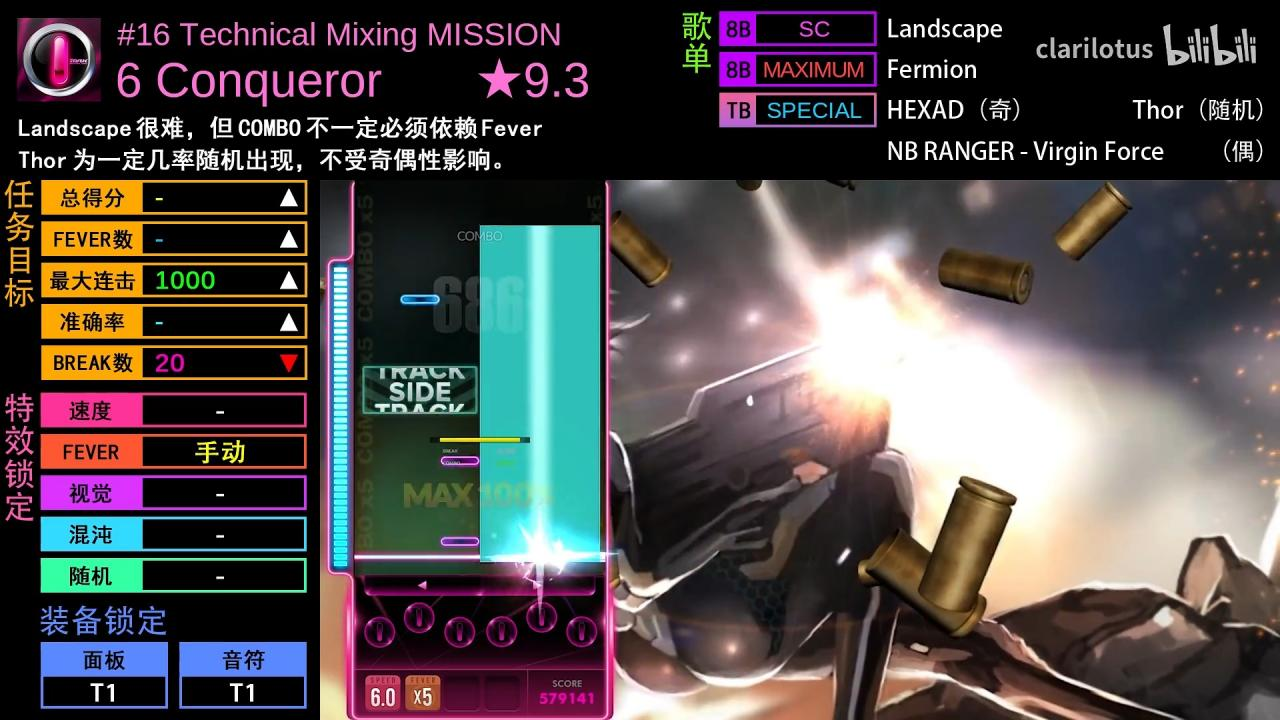note: (441, 456, 479, 467), (400, 295, 441, 305), (441, 537, 479, 547)
side-end: (480, 225, 600, 236)
